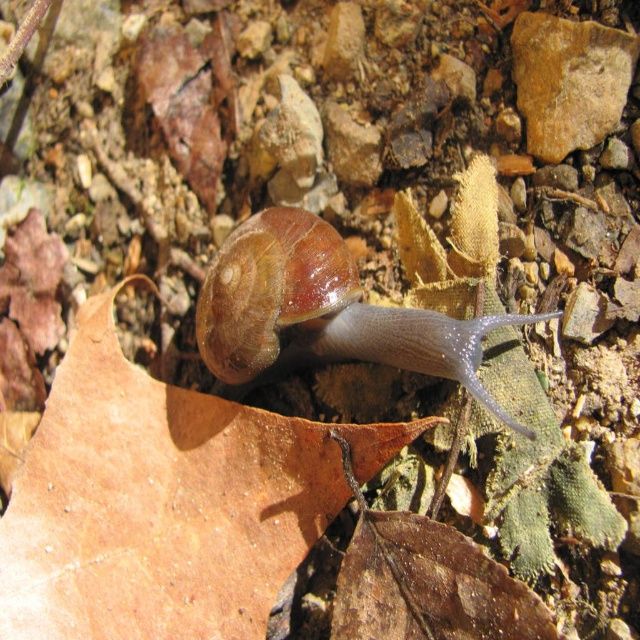Snail: (192, 201, 562, 439)
